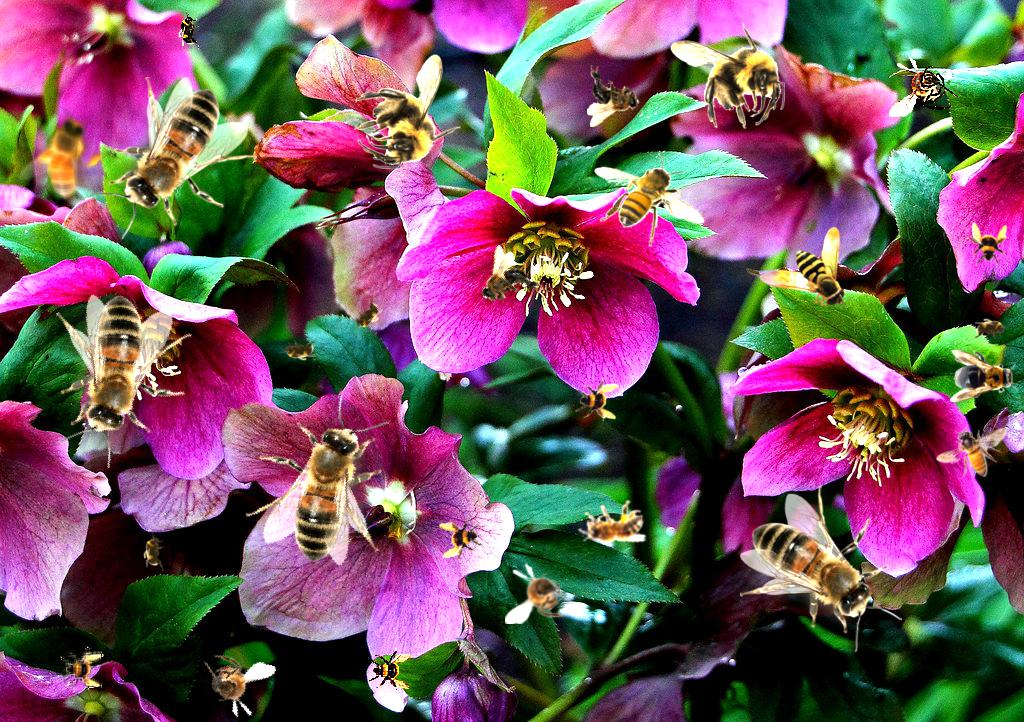Bee: (6, 262, 229, 484), (216, 379, 431, 591), (90, 77, 257, 239), (740, 485, 902, 652), (9, 101, 121, 218), (354, 54, 461, 169), (670, 22, 785, 129), (594, 153, 705, 247), (759, 227, 847, 309), (190, 643, 277, 722), (464, 242, 547, 324), (574, 496, 648, 555), (889, 56, 959, 117), (505, 563, 575, 624), (936, 427, 1007, 477), (950, 350, 1018, 402), (587, 65, 640, 127), (435, 514, 487, 566), (344, 294, 390, 338), (60, 646, 104, 690), (965, 222, 1009, 266), (575, 377, 619, 421), (368, 647, 412, 691), (141, 530, 167, 572), (971, 318, 1011, 340), (279, 339, 319, 361), (178, 10, 200, 50)
